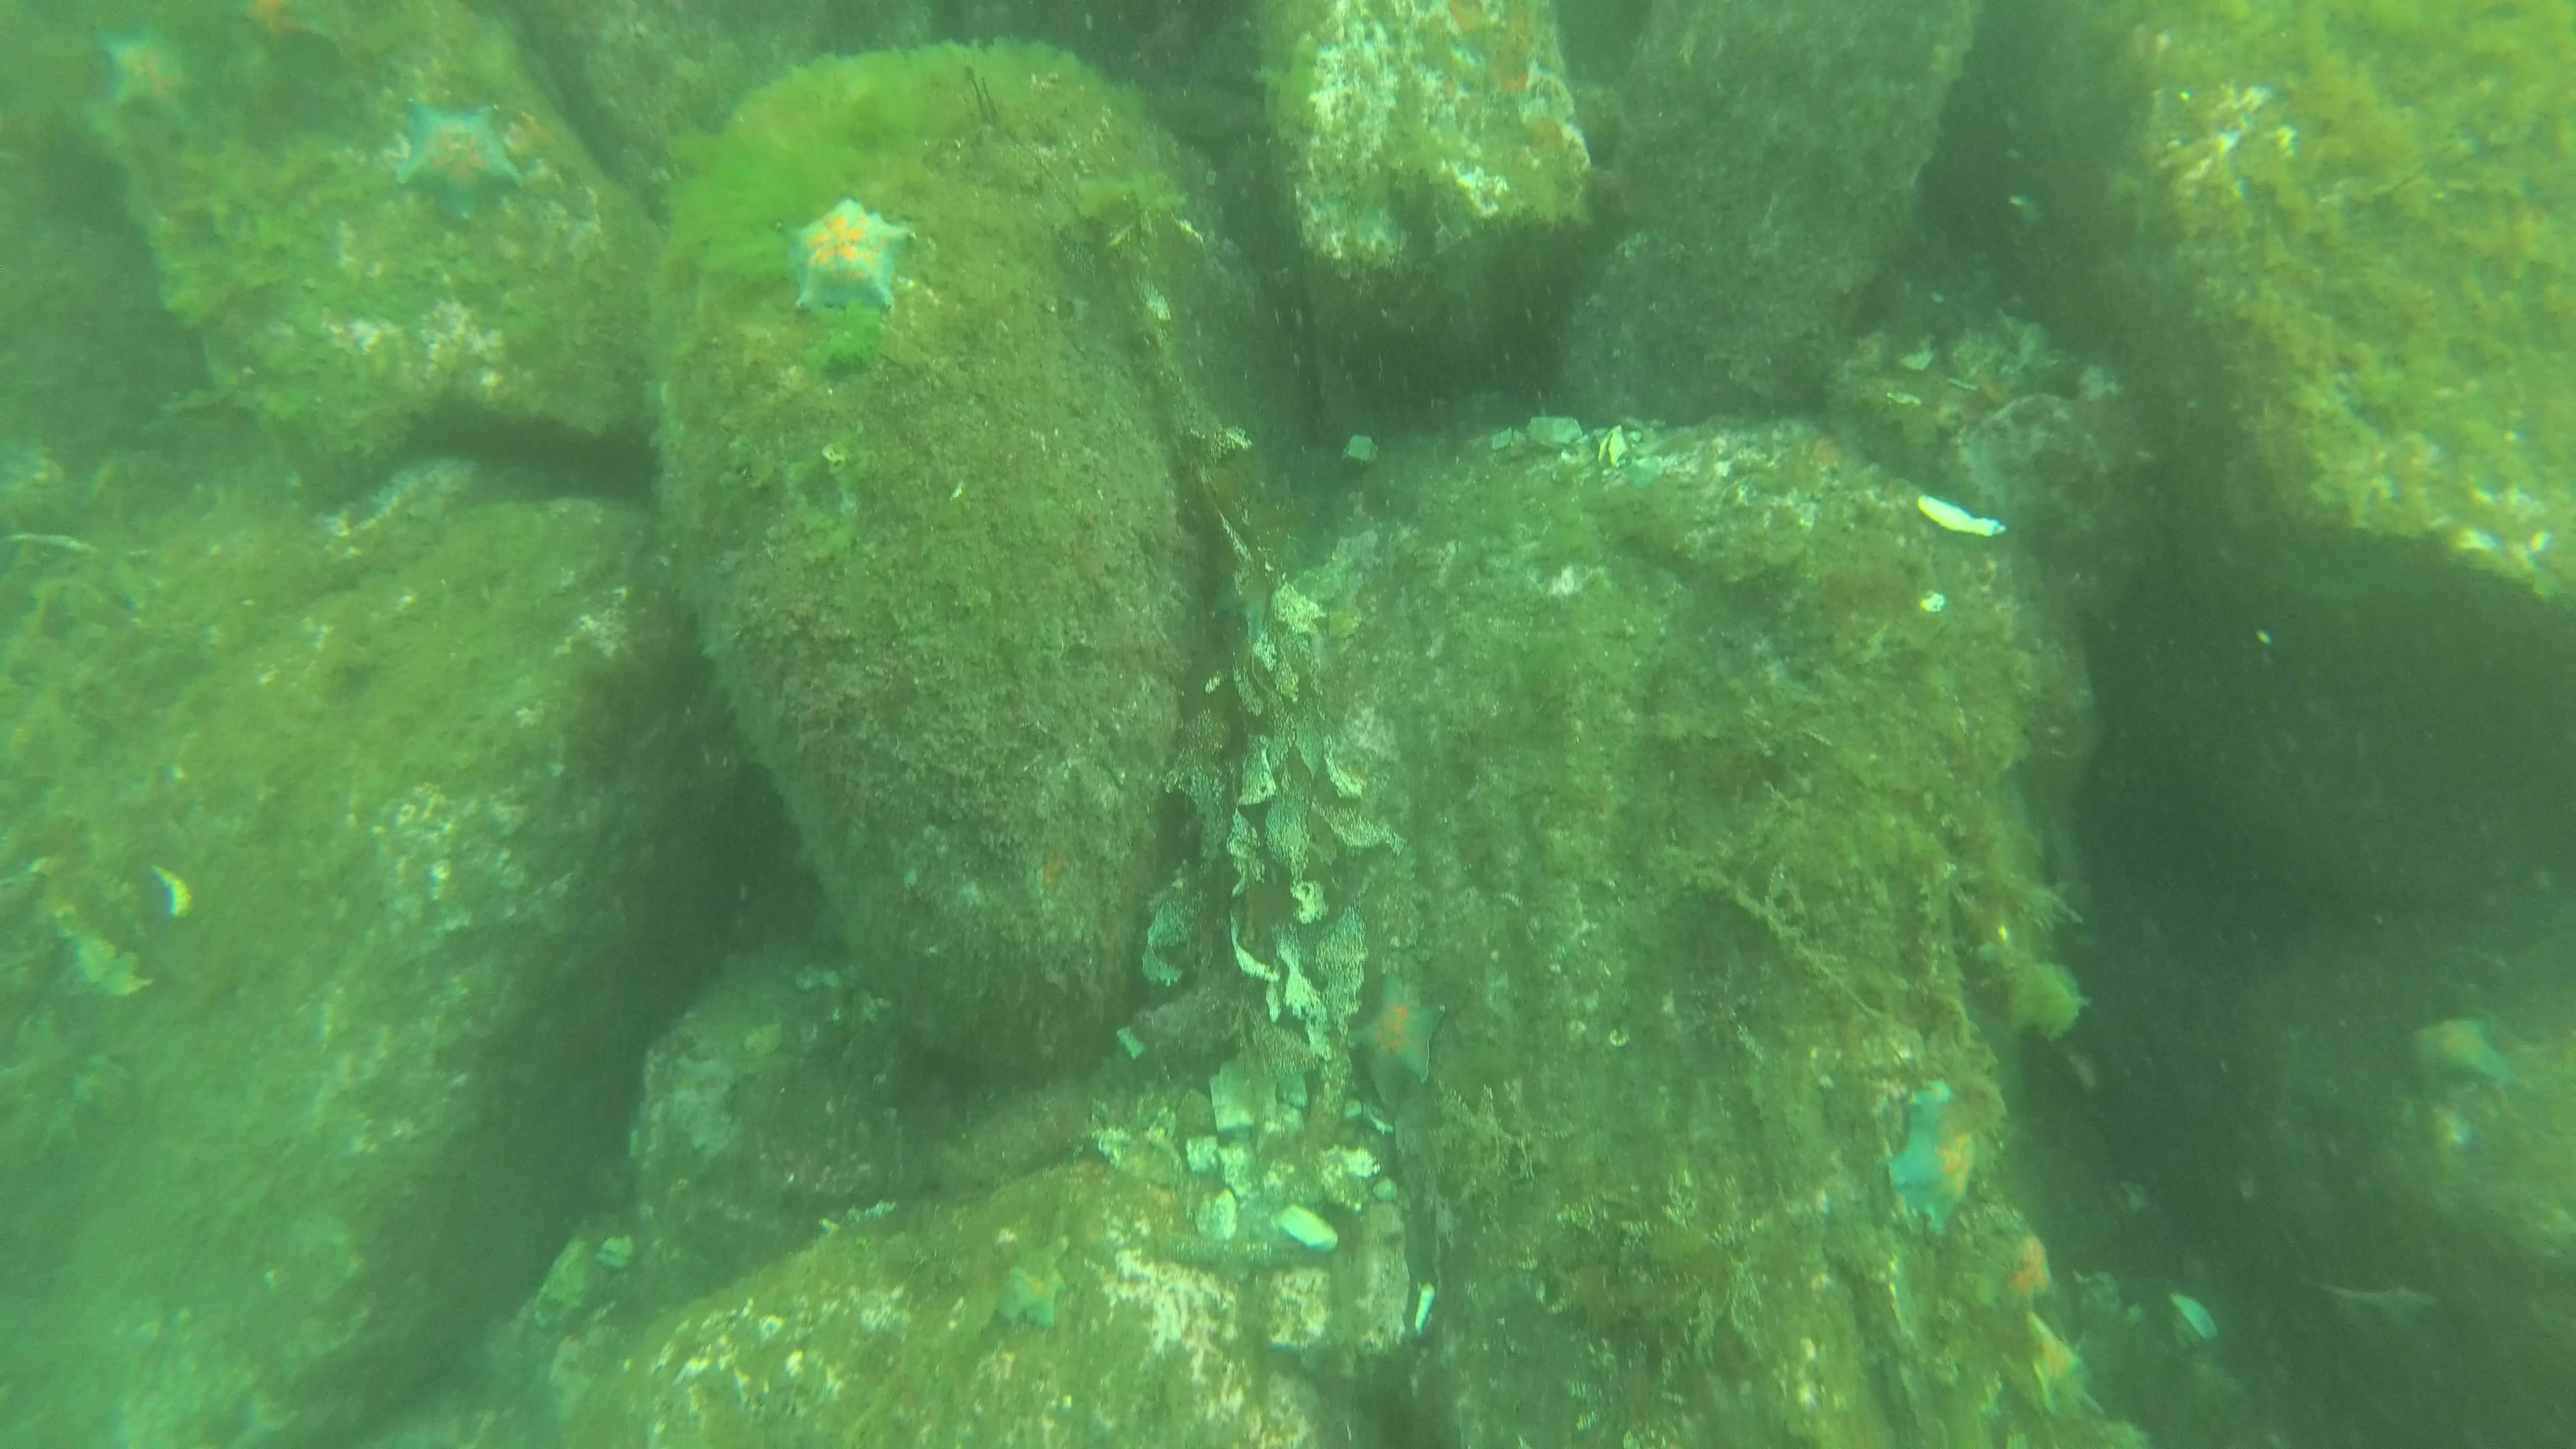starfish: (391, 99, 531, 225), (768, 200, 918, 315), (1893, 1074, 1987, 1231), (1341, 970, 1453, 1097), (97, 18, 207, 127), (2406, 1008, 2514, 1097), (989, 1233, 1074, 1336), (1997, 1228, 2061, 1307), (2036, 1341, 2095, 1424), (223, 0, 329, 44)
